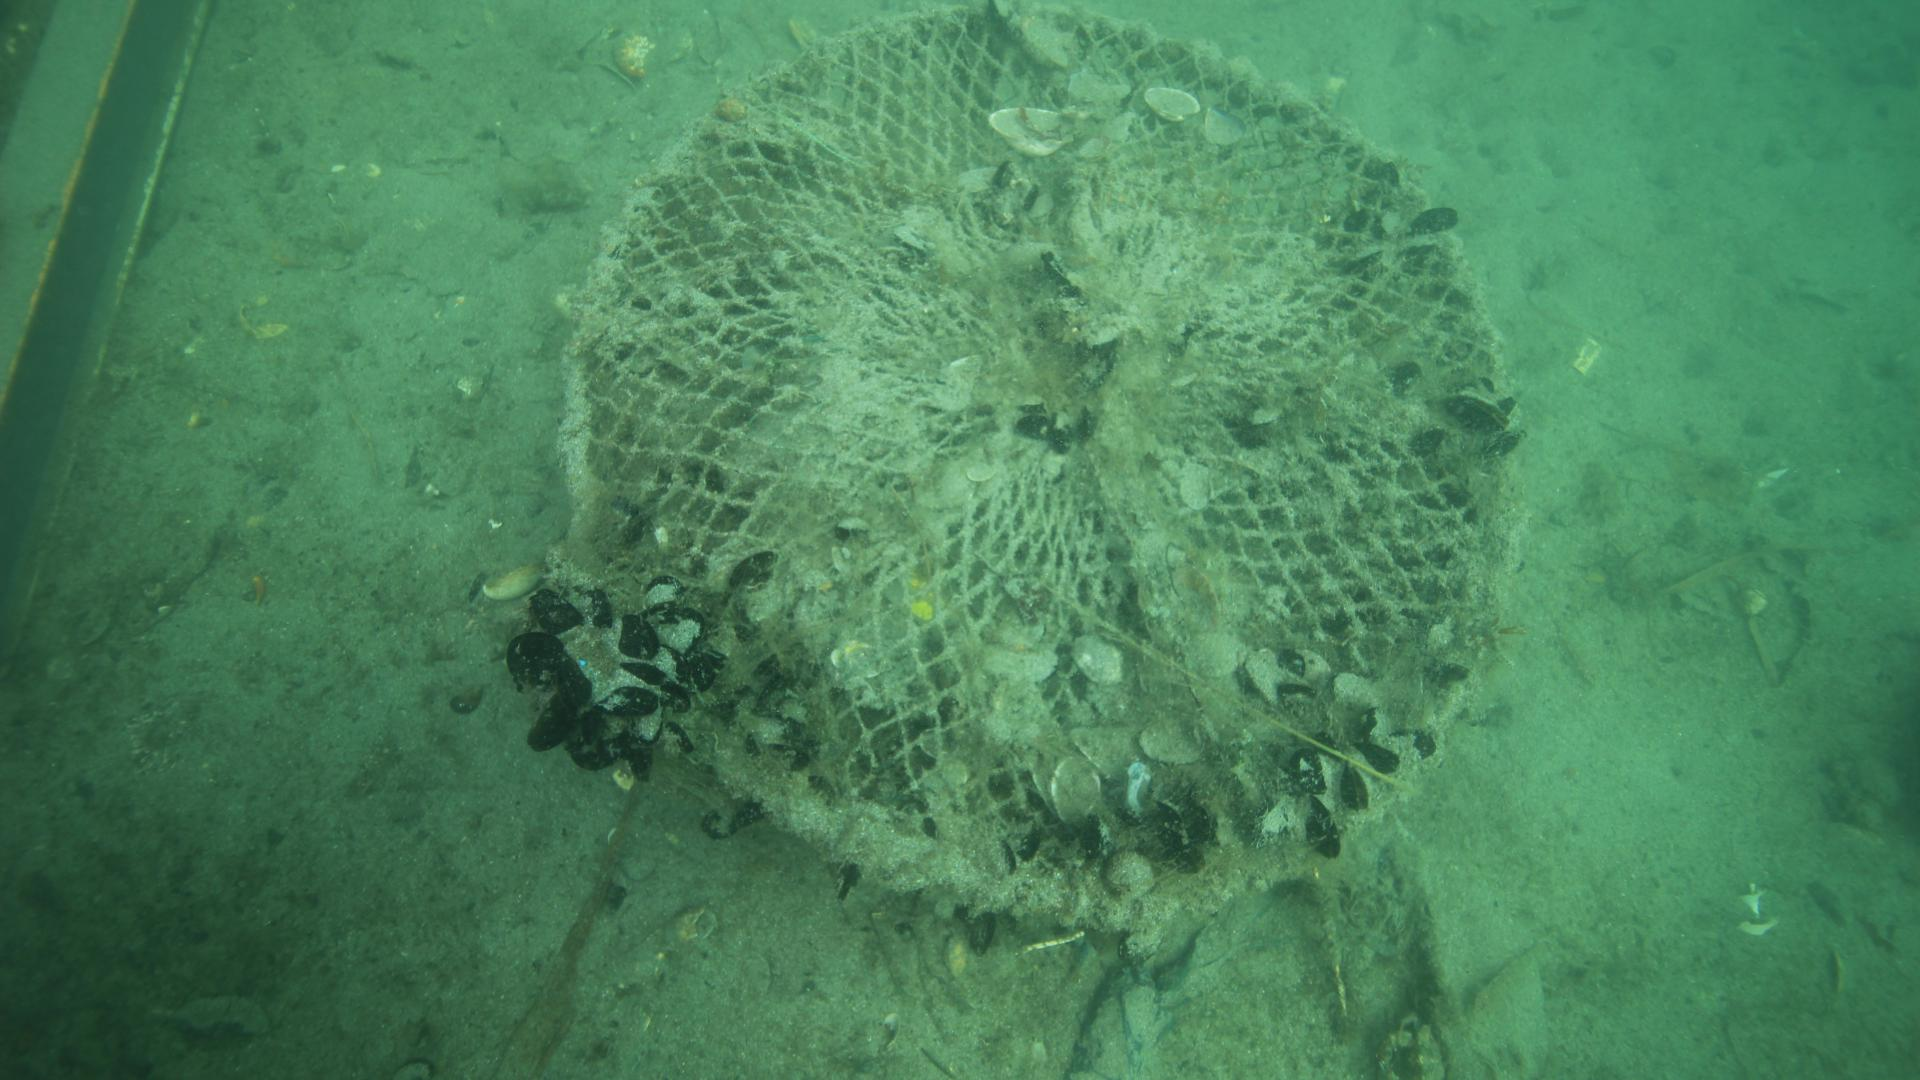circular fish trap: (559, 0, 1520, 924)
